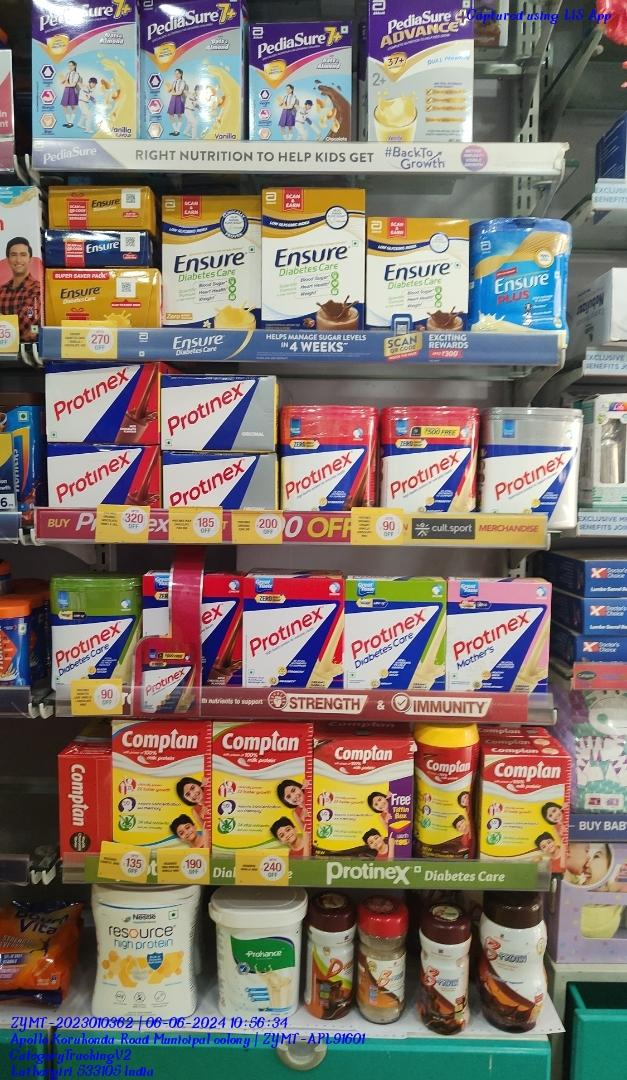COMPLAN_CHOCOLATE_500_GMS_JAR: (415, 725, 474, 860)
COMPLAN_PISTA_BADAM_500_GMS_PACK: (212, 722, 310, 857)
PROTINEX_CHOCOLATE_400_G_JAR: (280, 404, 376, 514)
PROTINEX_ORIGINAL_400_G_JAR: (483, 408, 585, 530)
PROTINEX_VANILLA_400_G_JAR: (381, 404, 479, 517)
